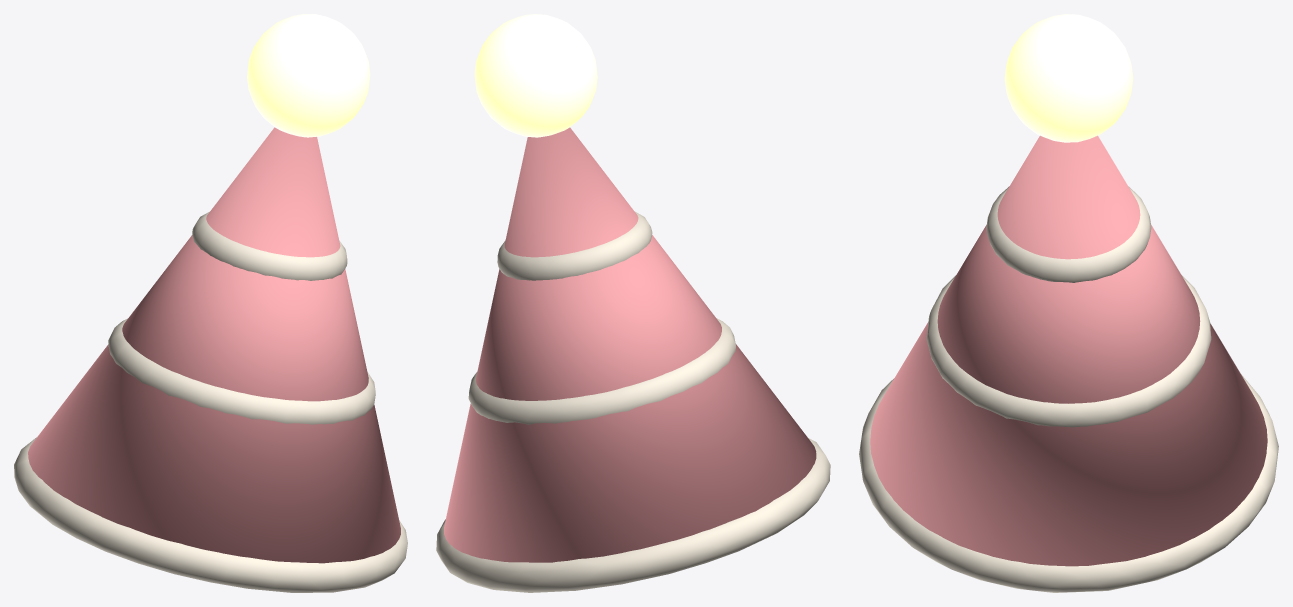
The model's file is party_hat.glb.
The picture shows the model from 3 angles, left to right: view 1: azimuth 30°, elevation 25°; view 2: azimuth 150°, elevation 25°; view 3: azimuth 270°, elevation 25°; orthographic projection. The views are drawn at different scales.
Parts seen in each view (by area): view 1: Cone, HatBand0, HatPom, HatBand1, HatBand2; view 2: Cone, HatBand0, HatPom, HatBand1, HatBand2; view 3: Cone, HatBand0, HatPom, HatBand1, HatBand2.
Boxes of the visible parts, box(x1,y1,x2,y2) form: Cone: box(28, 127, 400, 563); HatBand0: box(14, 437, 407, 592); HatPom: box(247, 14, 370, 137); HatBand1: box(108, 318, 375, 424); HatBand2: box(192, 211, 347, 280); Cone: box(444, 127, 816, 562); HatBand0: box(436, 438, 830, 592); HatPom: box(474, 14, 597, 137); HatBand1: box(468, 318, 735, 424); HatBand2: box(497, 211, 652, 280); Cone: box(870, 135, 1267, 566); HatBand0: box(859, 374, 1278, 592); HatPom: box(1004, 14, 1133, 142); HatBand1: box(926, 275, 1211, 427); HatBand2: box(986, 186, 1151, 282).
Bounding box in the file's own units: 0.4746 × 0.6968 × 0.4892.
